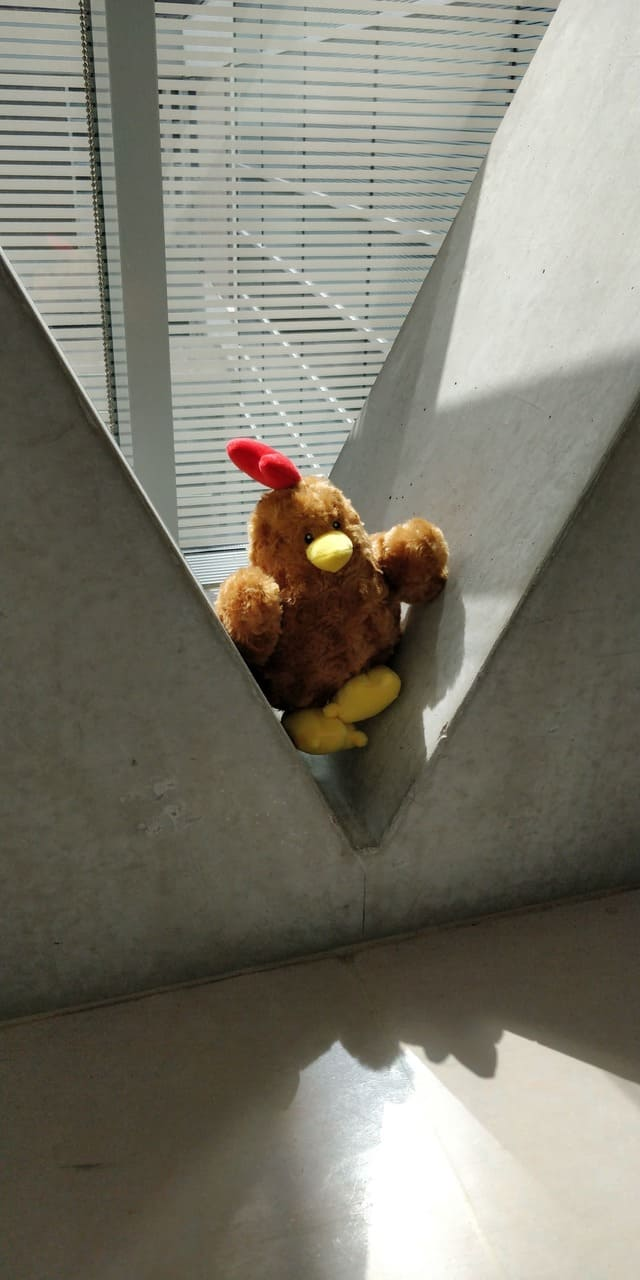fakeChicken: (211, 440, 453, 754)
